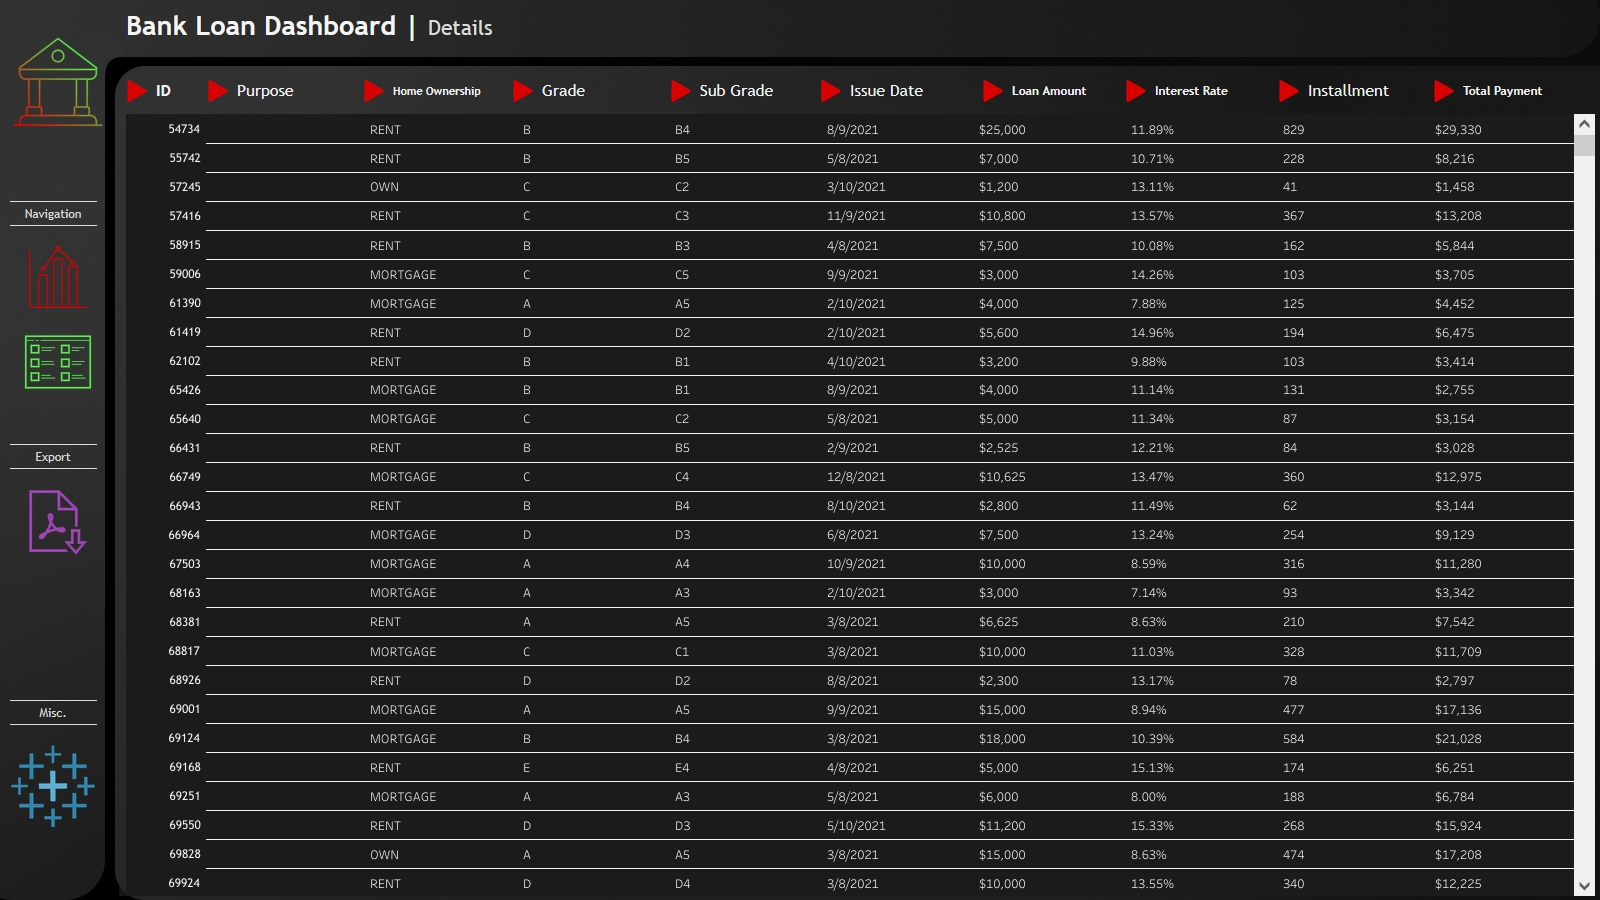

The page's visual inventory and layout, read from the dashboard file:
{"tool":"tableau","page":{"name":"Details","canvas":[1600,900],"ordinal":0},"visuals":[{"type":"image","param":"Image/Frame 2.png","box":[0,0,1600,900]},{"type":"blank","box":[0,0,122,32]},{"type":"text","box":[122,0,687,52]},{"type":"blank","box":[809,0,791,52]},{"type":"image","param":"Image/main_icon_2.png","box":[0,32,122,100]},{"type":"blank","box":[122,52,1478,20]},{"type":"dashboard-object","box":[122,72,30,38]},{"type":"text","box":[152,72,51,38]},{"type":"dashboard-object","box":[203,72,30,38]},{"type":"text","box":[233,72,126,38]},{"type":"dashboard-object","box":[359,72,30,38]},{"type":"text","box":[389,72,119,38]},{"type":"dashboard-object","box":[508,72,30,38]},{"type":"text","box":[538,72,128,38]},{"type":"dashboard-object","box":[666,72,30,38]},{"type":"text","box":[696,72,120,38]},{"type":"dashboard-object","box":[816,72,30,38]},{"type":"text","box":[846,72,132,38]},{"type":"dashboard-object","box":[978,72,30,38]},{"type":"text","box":[1008,72,113,38]},{"type":"dashboard-object","box":[1121,72,30,38]},{"type":"text","box":[1151,72,123,38]},{"type":"dashboard-object","box":[1274,72,30,38]},{"type":"text","box":[1304,72,125,38]},{"type":"dashboard-object","box":[1429,72,30,38]},{"type":"text","box":[1459,72,114,38]},{"type":"filter","title":"Details Tab","param":"[federated.1vf9vyr181wz11152hhhw1rm8q7u].[none:id:ok]","box":[122,110,81,58]},{"type":"worksheet","title":"Details Tab","mark":"Shape","rows":["id"],"cols":["Calculation_537335783592046593","Calculation_537335783592046593","Calculation_537335783592046593","Calculation_537335783592046593","Calculation_537335783592046593","Calculation_537335783592046593","Calculation_537335783592046593","Calculation_537335783592046593","Calculation_537335783592046593"],"box":[122,110,1478,790]},{"type":"filter","title":"Details Tab","param":"[federated.1vf9vyr181wz11152hhhw1rm8q7u].[none:purpose:nk]","box":[203,110,156,61]},{"type":"filter","title":"Details Tab","param":"[federated.1vf9vyr181wz11152hhhw1rm8q7u].[none:home_ownership:nk]","box":[359,110,149,61]},{"type":"filter","title":"Details Tab","param":"[federated.1vf9vyr181wz11152hhhw1rm8q7u].[none:grade:nk]","box":[508,110,158,61]},{"type":"filter","title":"Details Tab","param":"[federated.1vf9vyr181wz11152hhhw1rm8q7u].[none:sub_grade:nk]","box":[666,110,150,61]},{"type":"filter","title":"Details Tab","param":"[federated.1vf9vyr181wz11152hhhw1rm8q7u].[none:issue_date:qk]","box":[816,110,162,73]},{"type":"filter","title":"Details Tab","param":"[federated.1vf9vyr181wz11152hhhw1rm8q7u].[sum:loan_amount:qk]","box":[978,110,143,73]},{"type":"filter","title":"Details Tab","param":"[federated.1vf9vyr181wz11152hhhw1rm8q7u].[sum:int_rate:qk]","box":[1121,110,153,73]},{"type":"filter","title":"Details Tab","param":"[federated.1vf9vyr181wz11152hhhw1rm8q7u].[sum:installment:qk]","box":[1274,110,155,73]},{"type":"filter","title":"Details Tab","param":"[federated.1vf9vyr181wz11152hhhw1rm8q7u].[sum:total_payment:qk]","box":[1429,110,144,73]},{"type":"blank","box":[0,132,122,69]},{"type":"blank","box":[0,201,122,1]},{"type":"text","box":[0,202,122,26]},{"type":"blank","box":[0,228,122,1]},{"type":"dashboard-object","box":[0,229,122,86]},{"type":"dashboard-object","box":[0,315,122,100]},{"type":"blank","box":[0,415,122,32]},{"type":"blank","box":[0,447,122,1]},{"type":"text","box":[0,448,122,26]},{"type":"blank","box":[0,474,122,1]},{"type":"dashboard-object","box":[0,475,122,91]},{"type":"blank","box":[0,566,122,32]},{"type":"blank","box":[0,598,122,108]},{"type":"blank","box":[0,706,122,1]},{"type":"text","box":[0,707,122,26]},{"type":"blank","box":[0,733,122,1]},{"type":"image","param":"Image/imageedit_4_8854838988.png","box":[0,734,122,108]},{"type":"blank","box":[0,842,122,58]}]}

Visuals, with their boxes in screenshot pixels (x1, y1, x2, y2), scaled from the page's 1600x900 canvas onto the 1600x900 screenshot:
image: [0, 0, 1599, 899]
blank: [0, 0, 122, 32]
text: [122, 0, 809, 52]
blank: [809, 0, 1599, 52]
image: [0, 32, 122, 132]
blank: [122, 52, 1599, 72]
dashboard-object: [122, 72, 152, 110]
text: [152, 72, 203, 110]
dashboard-object: [203, 72, 233, 110]
text: [233, 72, 359, 110]
dashboard-object: [359, 72, 389, 110]
text: [389, 72, 508, 110]
dashboard-object: [508, 72, 538, 110]
text: [538, 72, 666, 110]
dashboard-object: [666, 72, 696, 110]
text: [696, 72, 816, 110]
dashboard-object: [816, 72, 846, 110]
text: [846, 72, 978, 110]
dashboard-object: [978, 72, 1008, 110]
text: [1008, 72, 1121, 110]
dashboard-object: [1121, 72, 1151, 110]
text: [1151, 72, 1274, 110]
dashboard-object: [1274, 72, 1304, 110]
text: [1304, 72, 1429, 110]
dashboard-object: [1429, 72, 1459, 110]
text: [1459, 72, 1573, 110]
"Details Tab" filter: [122, 110, 203, 168]
"Details Tab" worksheet (Shape marks): [122, 110, 1599, 899]
"Details Tab" filter: [203, 110, 359, 171]
"Details Tab" filter: [359, 110, 508, 171]
"Details Tab" filter: [508, 110, 666, 171]
"Details Tab" filter: [666, 110, 816, 171]
"Details Tab" filter: [816, 110, 978, 183]
"Details Tab" filter: [978, 110, 1121, 183]
"Details Tab" filter: [1121, 110, 1274, 183]
"Details Tab" filter: [1274, 110, 1429, 183]
"Details Tab" filter: [1429, 110, 1573, 183]
blank: [0, 132, 122, 201]
blank: [0, 201, 122, 202]
text: [0, 202, 122, 228]
blank: [0, 228, 122, 229]
dashboard-object: [0, 229, 122, 315]
dashboard-object: [0, 315, 122, 415]
blank: [0, 415, 122, 447]
blank: [0, 447, 122, 448]
text: [0, 448, 122, 474]
blank: [0, 474, 122, 475]
dashboard-object: [0, 475, 122, 566]
blank: [0, 566, 122, 598]
blank: [0, 598, 122, 706]
blank: [0, 706, 122, 707]
text: [0, 707, 122, 733]
blank: [0, 733, 122, 734]
image: [0, 734, 122, 842]
blank: [0, 842, 122, 899]
